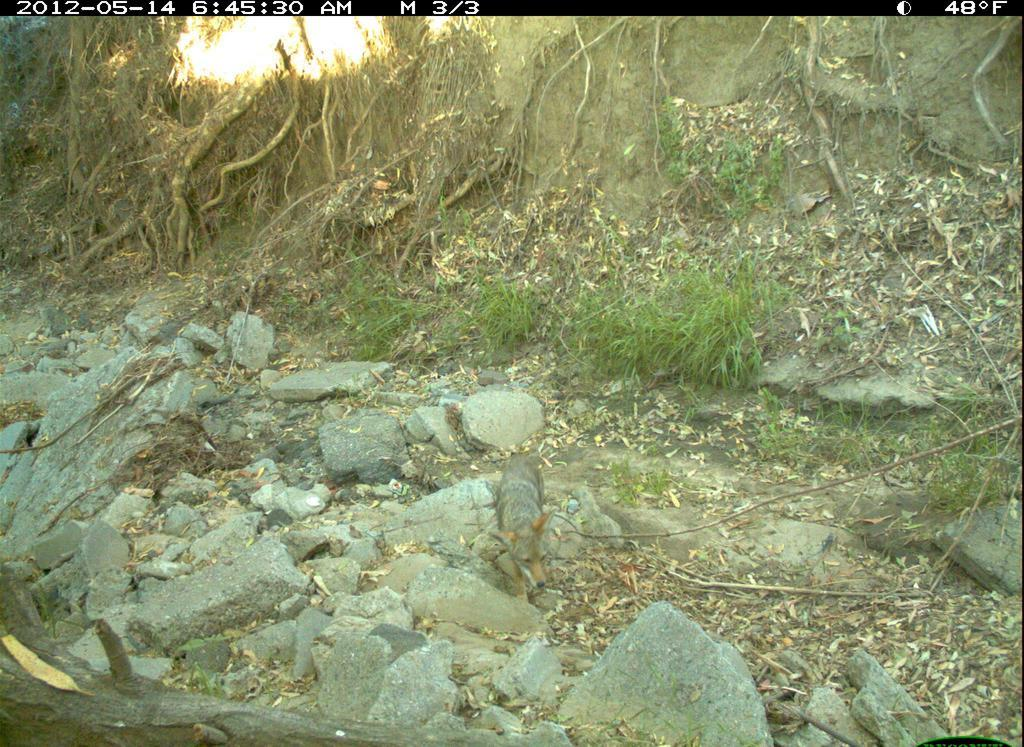coyote: (484, 449, 559, 605)
